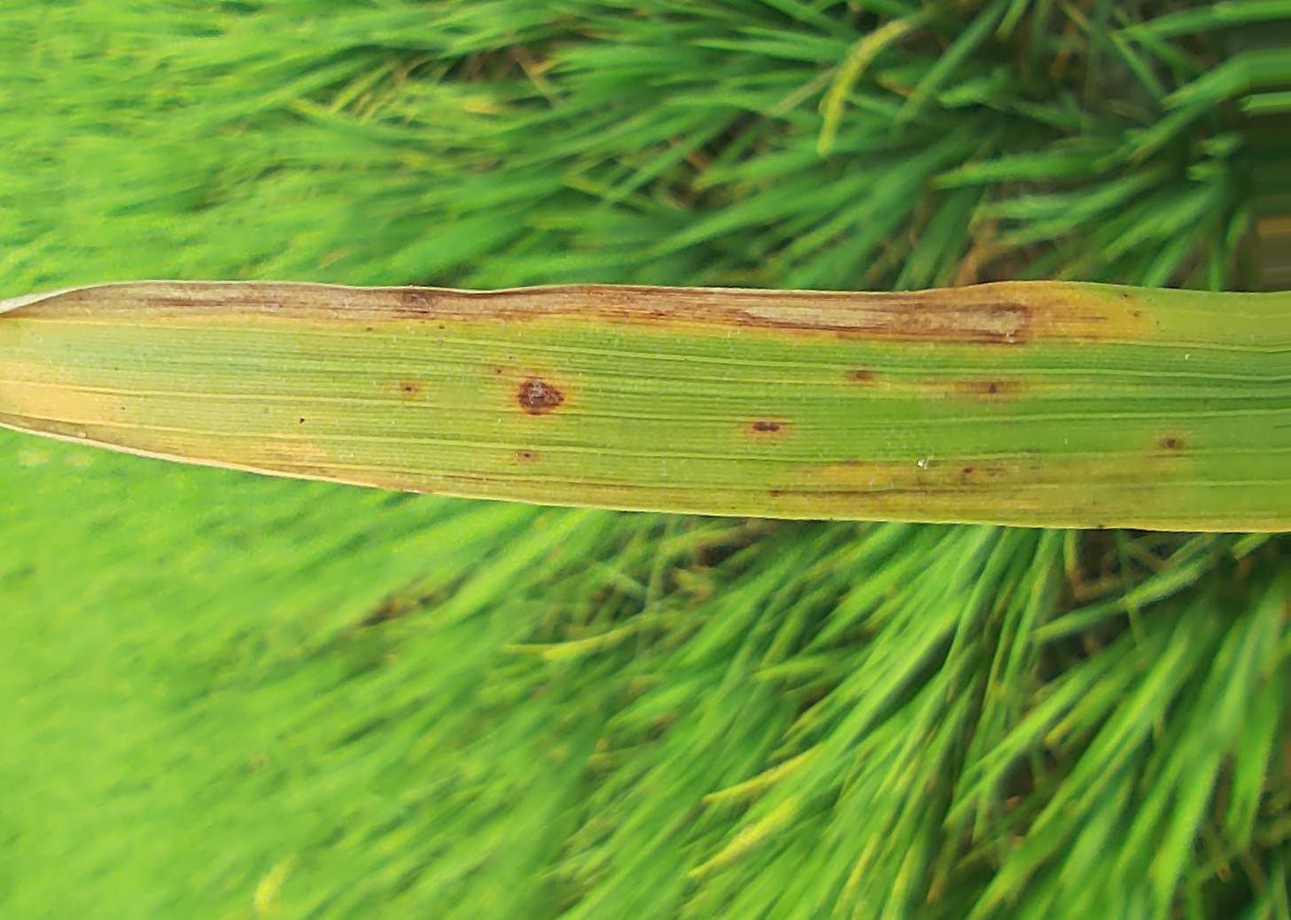LEAF: (0, 280, 1290, 531)
LEAF BLAST: (1, 281, 1034, 344), (518, 378, 563, 414)
